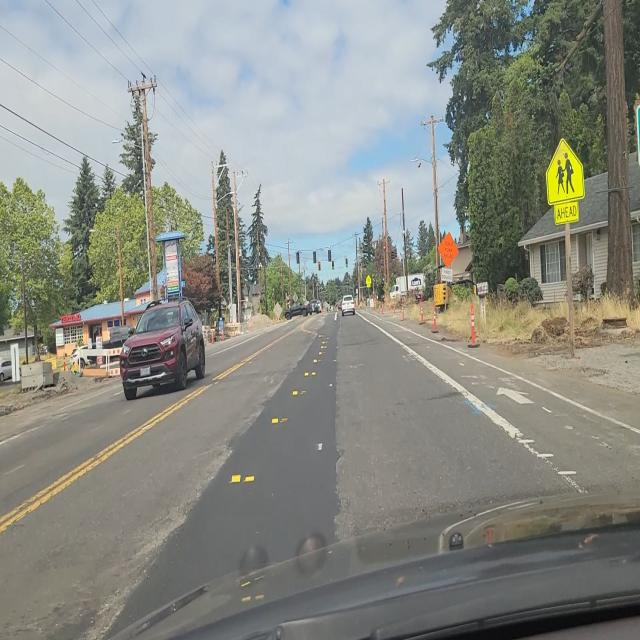car: (120, 296, 207, 398), (91, 325, 132, 370), (69, 344, 102, 369), (132, 299, 164, 319), (284, 300, 309, 320), (0, 359, 13, 383), (341, 295, 355, 317), (310, 299, 320, 315)
crosswalk-sign: (546, 138, 586, 224), (366, 277, 372, 306), (364, 278, 370, 290)
delineator: (469, 304, 476, 346), (431, 304, 439, 334), (419, 303, 425, 324), (401, 300, 405, 320), (392, 300, 396, 314), (382, 300, 386, 314), (249, 321, 253, 332), (373, 296, 376, 310), (63, 359, 66, 372)
